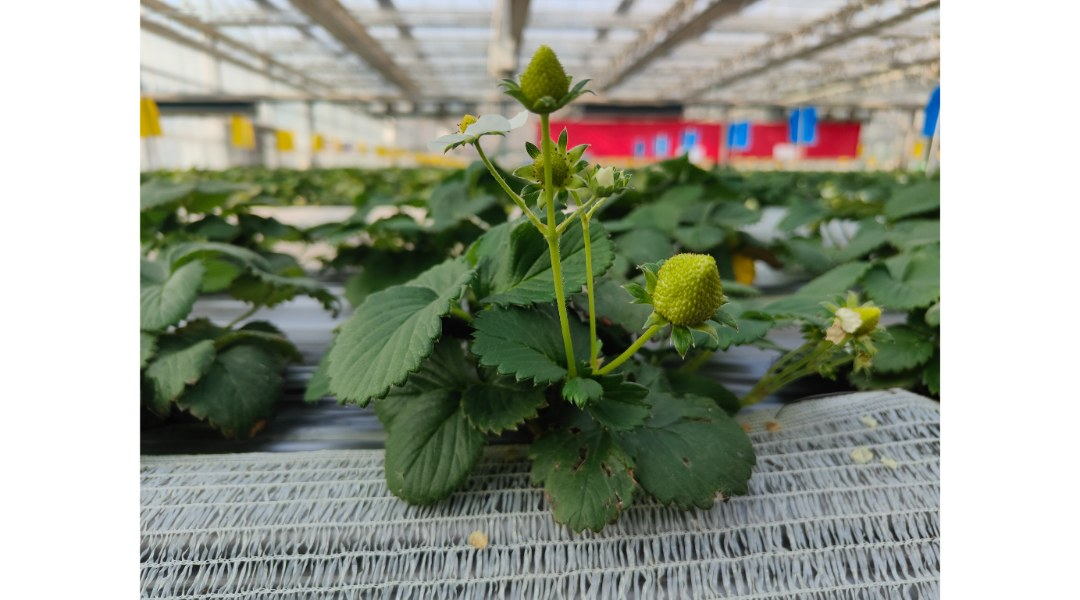berry: (638, 239, 733, 339), (496, 33, 592, 114)
flower: (435, 118, 514, 151)
strain: (572, 220, 601, 373), (545, 249, 577, 386)
